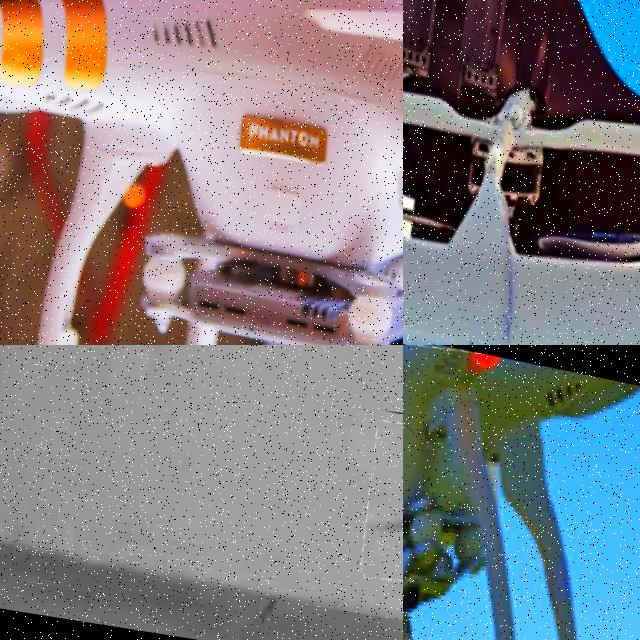drone: (0, 0, 403, 345), (403, 0, 640, 345), (403, 345, 640, 640), (356, 410, 403, 604)
